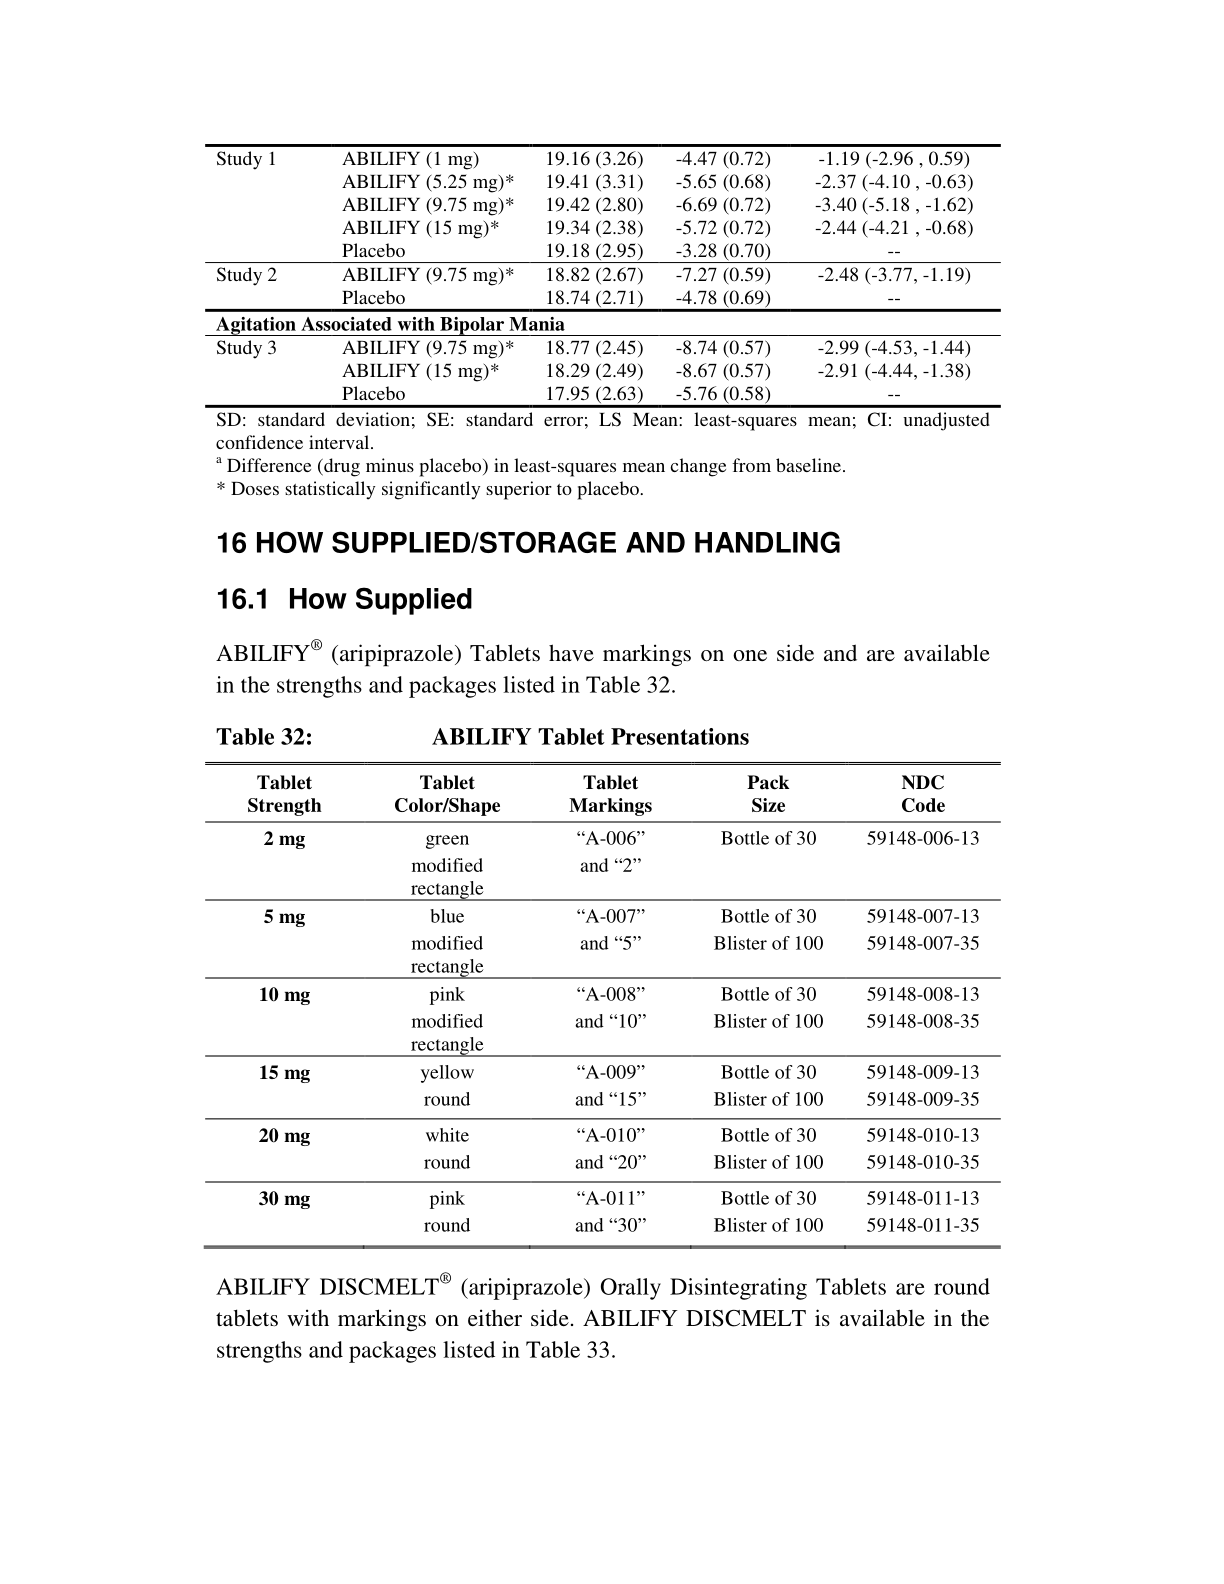partial_lined: (204, 761, 1002, 1248), (204, 143, 1002, 409)
